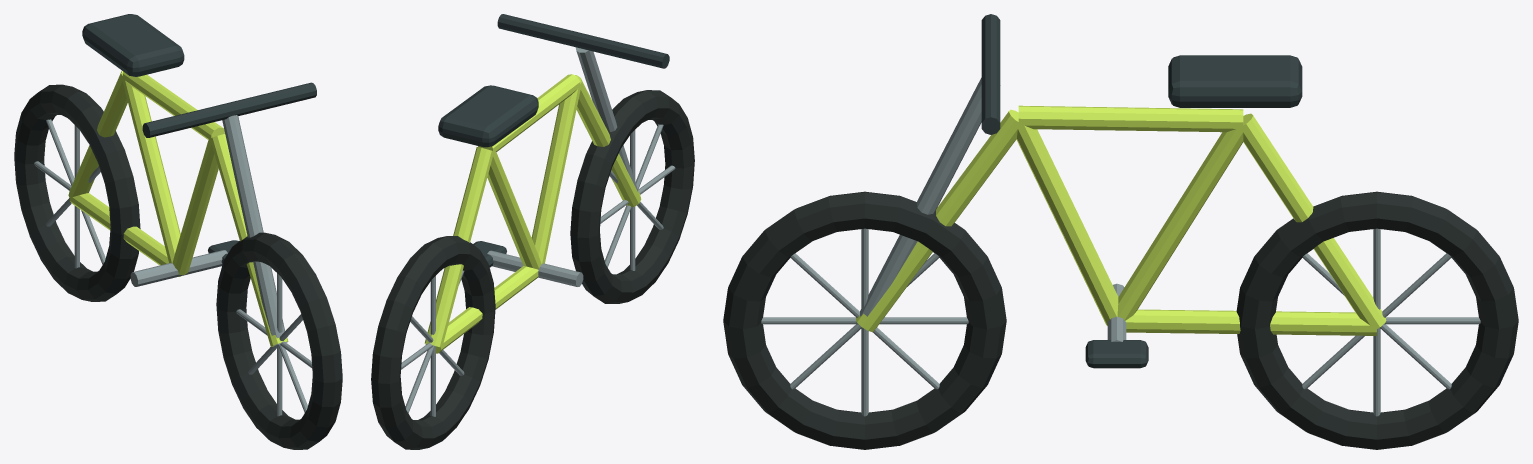
Rendered from bicycle.glb.
3 views of the same model, side by side, from view 1: azimuth 30°, elevation 25°; view 2: azimuth 150°, elevation 25°; view 3: azimuth 270°, elevation 25° (orthographic). The views are drawn at different scales.
Parts seen in each view (by area): view 1: Bicycle tire, Bicycle tire.001, Saddle, Fork, Bicycle frame.004, Handlebars, Bicycle frame.005, Bicycle frame, Bicycle frame.002, Bicycle frame.003, Bicycle frame.001, Crank (+5 smaller); view 2: Bicycle tire.001, Bicycle tire, Saddle, Bicycle frame.002, Bicycle frame.005, Handlebars, Bicycle frame.004, Bicycle frame, Bicycle frame.003, Fork, Bicycle frame.001, Crank (+7 smaller); view 3: Bicycle tire, Bicycle tire.001, Saddle, Bicycle frame.001, Bicycle frame.004, Bicycle frame.003, Bicycle frame.005, Bicycle frame.002, Bicycle frame, Fork, Handlebars, Pedal.
Boxes of the visible parts, x1,y1,x2,y2 form: Bicycle tire: [216, 232, 342, 449]; Bicycle tire.001: [14, 84, 140, 301]; Saddle: [82, 14, 184, 76]; Fork: [222, 115, 287, 345]; Bicycle frame.004: [121, 76, 180, 263]; Handlebars: [142, 82, 316, 137]; Bicycle frame.005: [172, 136, 218, 274]; Bicycle frame: [210, 134, 288, 346]; Bicycle frame.002: [68, 71, 127, 199]; Bicycle frame.003: [69, 193, 181, 276]; Bicycle frame.001: [122, 72, 224, 139]; Crank: [130, 250, 227, 286]; Bicycle tire.001: [371, 236, 495, 449]; Bicycle tire: [570, 90, 694, 303]; Saddle: [438, 85, 538, 147]; Bicycle frame.002: [424, 147, 492, 347]; Bicycle frame.005: [531, 84, 580, 263]; Handlebars: [497, 14, 669, 68]; Bicycle frame.004: [487, 152, 541, 269]; Bicycle frame: [575, 75, 641, 207]; Bicycle frame.003: [425, 266, 538, 353]; Fork: [575, 47, 638, 192]; Bicycle frame.001: [478, 74, 580, 153]; Crank: [487, 250, 583, 286]; Bicycle tire: [723, 191, 1006, 449]; Bicycle tire.001: [1236, 191, 1518, 449]; Saddle: [1168, 55, 1302, 107]; Bicycle frame.001: [1018, 105, 1243, 132]; Bicycle frame.004: [1117, 129, 1243, 320]; Bicycle frame.003: [1125, 309, 1376, 335]; Bicycle frame.005: [1015, 122, 1118, 325]; Bicycle frame.002: [1240, 113, 1386, 328]; Bicycle frame: [856, 109, 1019, 331]; Fork: [856, 77, 1000, 326]; Handlebars: [981, 14, 1000, 134]; Pedal: [1085, 340, 1148, 368].
Bounding box in the file's own units: 0.62 × 1.07 × 2.02.
